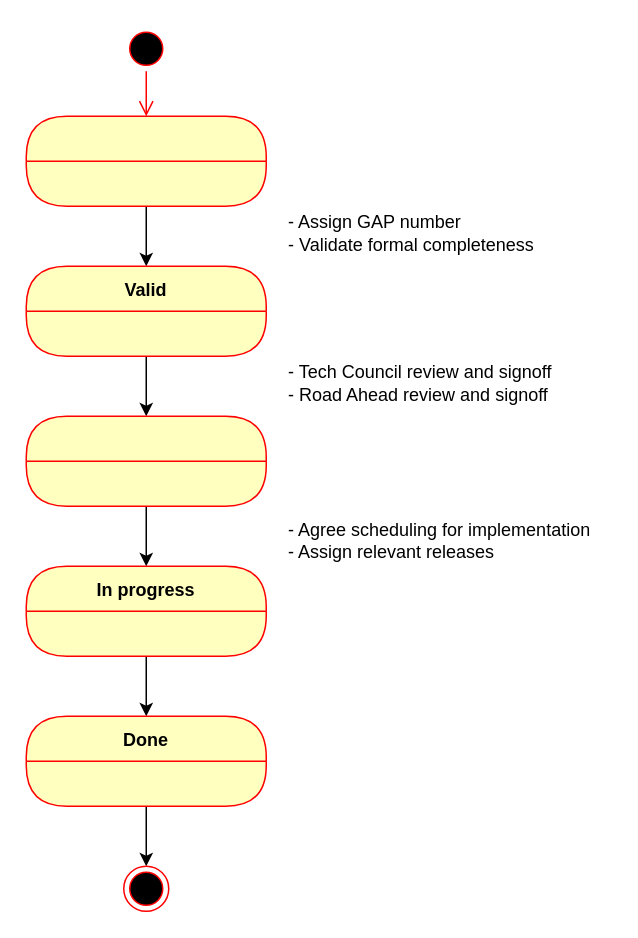
Some shapes in this 638 by 938 pixel diagram are drawn without their labels. The shapes that lost their labels are listed below. From the top down, each one's box as (x1, y1, x2, y2) in pixels, then its label:
(25, 115, 266, 206): Draft
(25, 415, 266, 506): Approved
